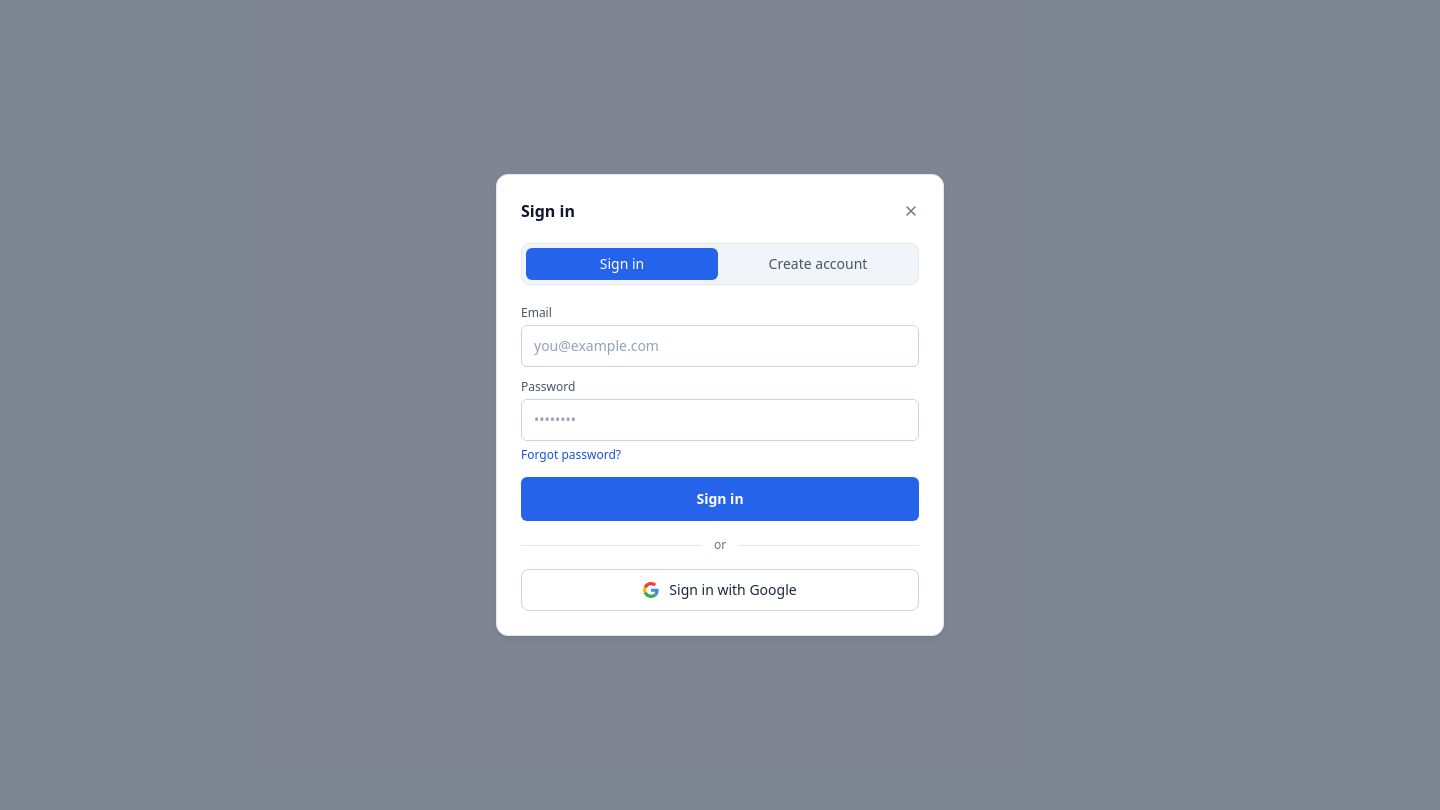
Test case: AuthModal › switches to the sign-up form with an additional name field
This screenshot has width=1440, height=810.
Step 1. Click the button "Create account" → (818, 264), box 722,248 -> 914,280
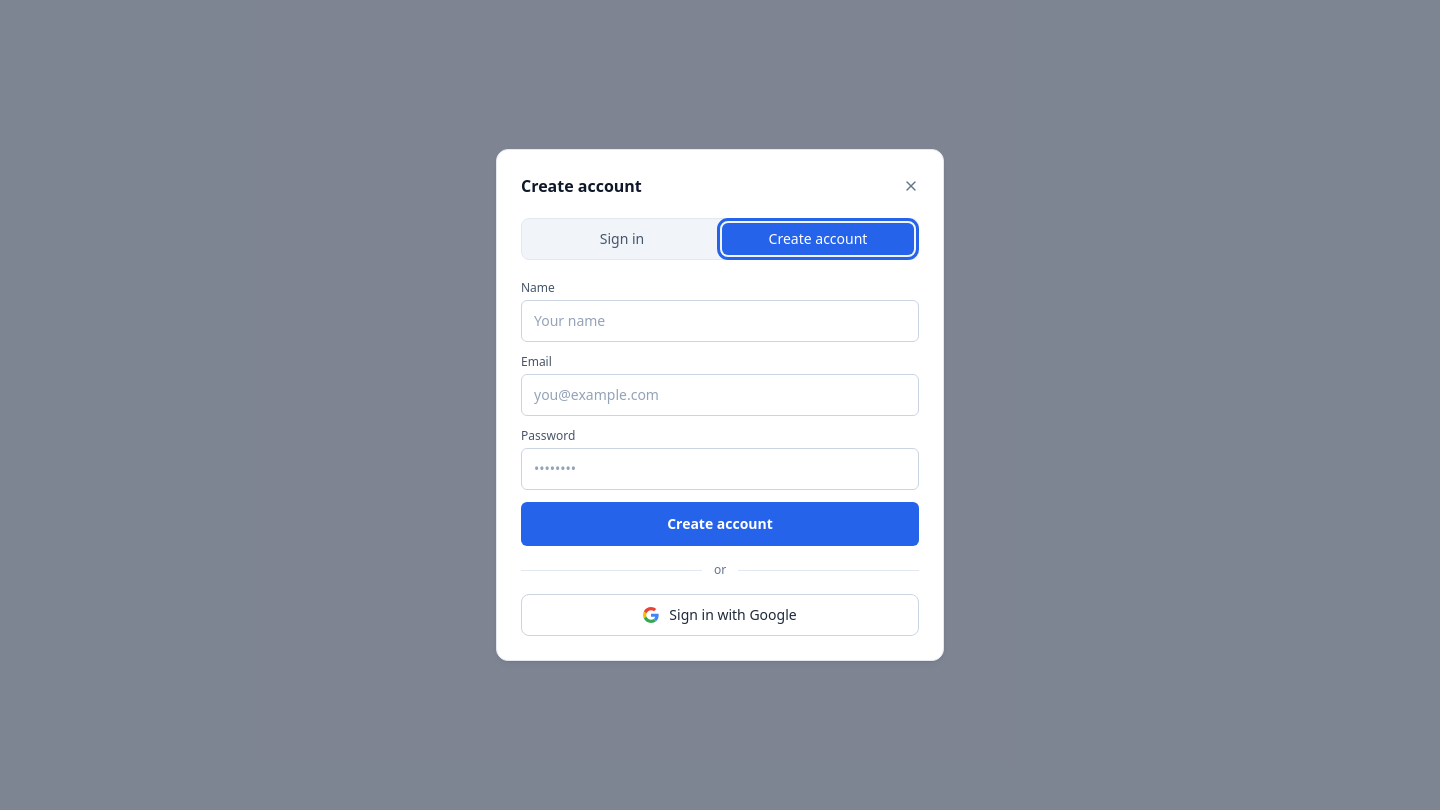
Expected: the dialog "Create account" is shown, 496,149 -> 944,661
Now the field labelled "Name" is shown, box 521,300 -> 919,342
